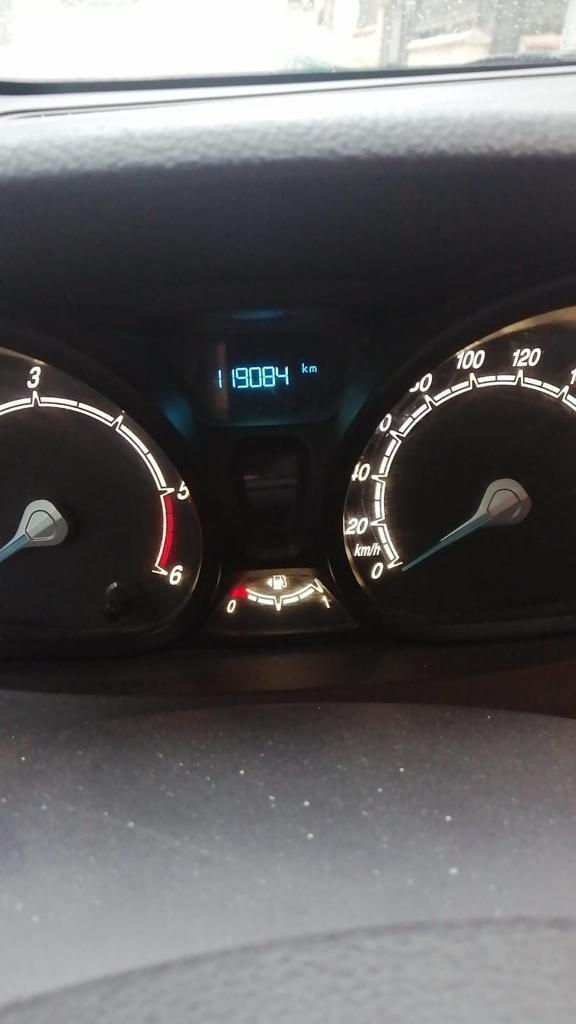0: (249, 366, 262, 388)
1: (216, 367, 222, 392), (230, 367, 235, 391)
4: (276, 365, 290, 385)
8: (262, 365, 275, 387)
9: (235, 366, 249, 389)
X: (301, 362, 308, 374), (309, 364, 317, 374)
odometer: (202, 349, 331, 408)
